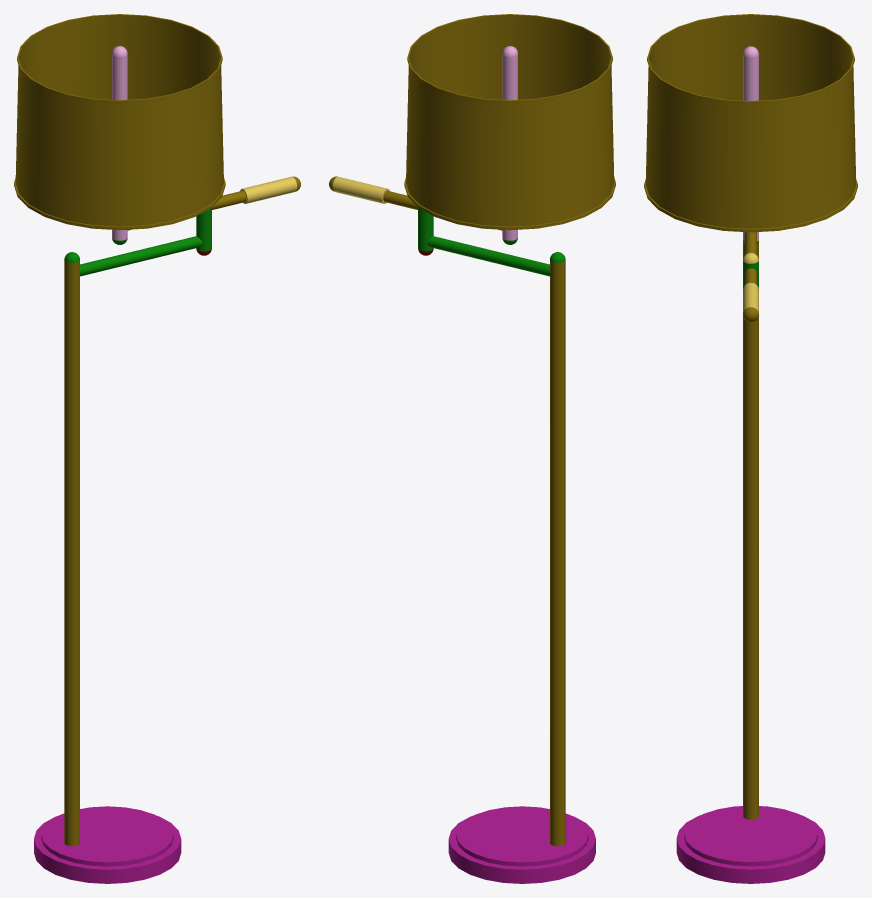
Rendered from lamp4.obj.
3 renders of one model, left to right at view 1: azimuth 30°, elevation 25°; view 2: azimuth 150°, elevation 25°; view 3: azimuth 270°, elevation 25°, orthographic.
Visible parts, largest first — view 1: Group_005, Group_011, Group_004, Group_014, Group_003, Group_010, Group_013; view 2: Group_005, Group_011, Group_004, Group_014, Group_003, Group_010, Group_013; view 3: Group_005, Group_004, Group_011, Group_003, Group_008.
Boxes of the visible parts, x1=… form: Group_005: x1=14, y1=14, x2=225, y2=230; Group_011: x1=64, y1=260, x2=79, y2=846; Group_004: x1=34, y1=806, x2=181, y2=883; Group_014: x1=79, y1=236, x2=202, y2=276; Group_003: x1=112, y1=54, x2=127, y2=240; Group_010: x1=240, y1=176, x2=297, y2=203; Group_013: x1=196, y1=208, x2=211, y2=251; Group_005: x1=404, y1=14, x2=615, y2=230; Group_011: x1=550, y1=260, x2=565, y2=846; Group_004: x1=448, y1=806, x2=595, y2=883; Group_014: x1=427, y1=236, x2=550, y2=276; Group_003: x1=502, y1=54, x2=517, y2=240; Group_010: x1=332, y1=176, x2=389, y2=203; Group_013: x1=418, y1=208, x2=433, y2=251; Group_005: x1=644, y1=14, x2=857, y2=232; Group_004: x1=676, y1=806, x2=825, y2=883; Group_011: x1=743, y1=240, x2=758, y2=819; Group_003: x1=743, y1=54, x2=758, y2=241; Group_008: x1=745, y1=232, x2=756, y2=284.
Bounding box in the file's own units: 19.98 × 56.45 × 13.48.
